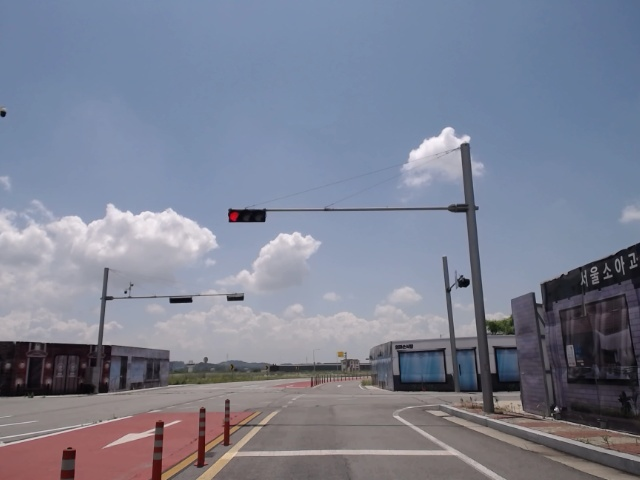red_3: (227, 206, 267, 224)
